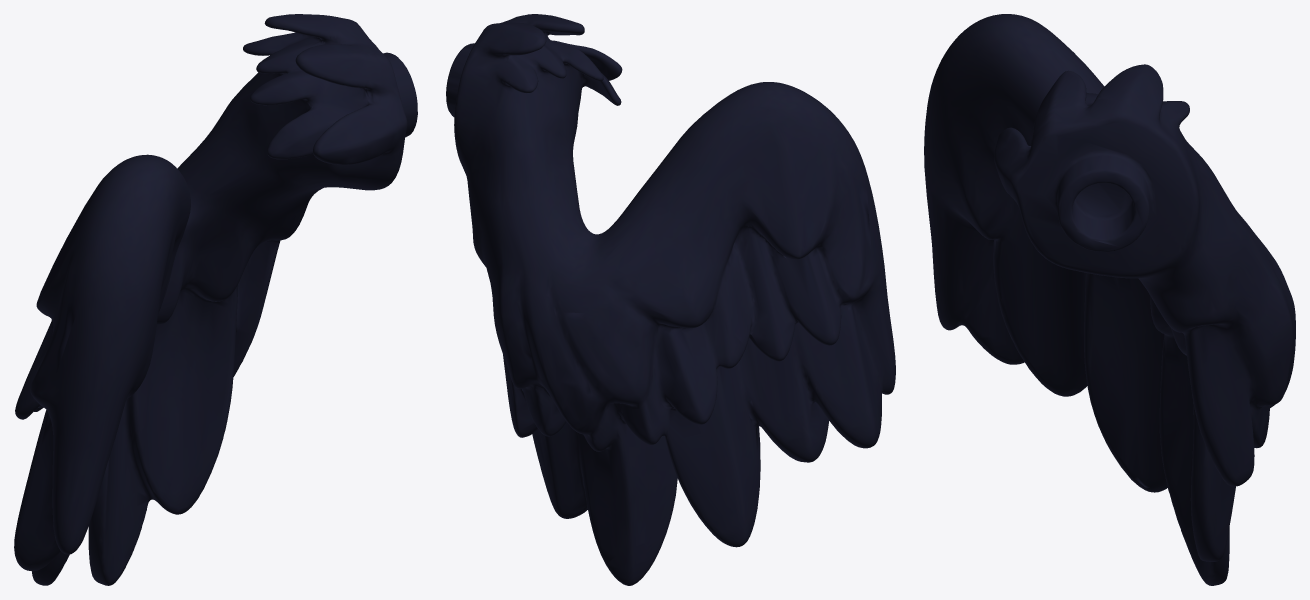
The model's file is Bras_Corbeau_rg.glb.
The picture shows the model from 3 angles, left to right: view 1: azimuth 30°, elevation 25°; view 2: azimuth 150°, elevation 25°; view 3: azimuth 270°, elevation 25°; orthographic projection. The views are drawn at different scales.
Visible parts, largest first — view 1: Bras_Corbeau_rg; view 2: Bras_Corbeau_rg; view 3: Bras_Corbeau_rg.
Part boxes in pixels (box(x1,y1,x2,y2)): Bras_Corbeau_rg: box(14, 14, 417, 585); Bras_Corbeau_rg: box(446, 14, 895, 585); Bras_Corbeau_rg: box(924, 14, 1295, 585).
Size of the model in its own units: 4.78 by 6.06 by 3.47.
